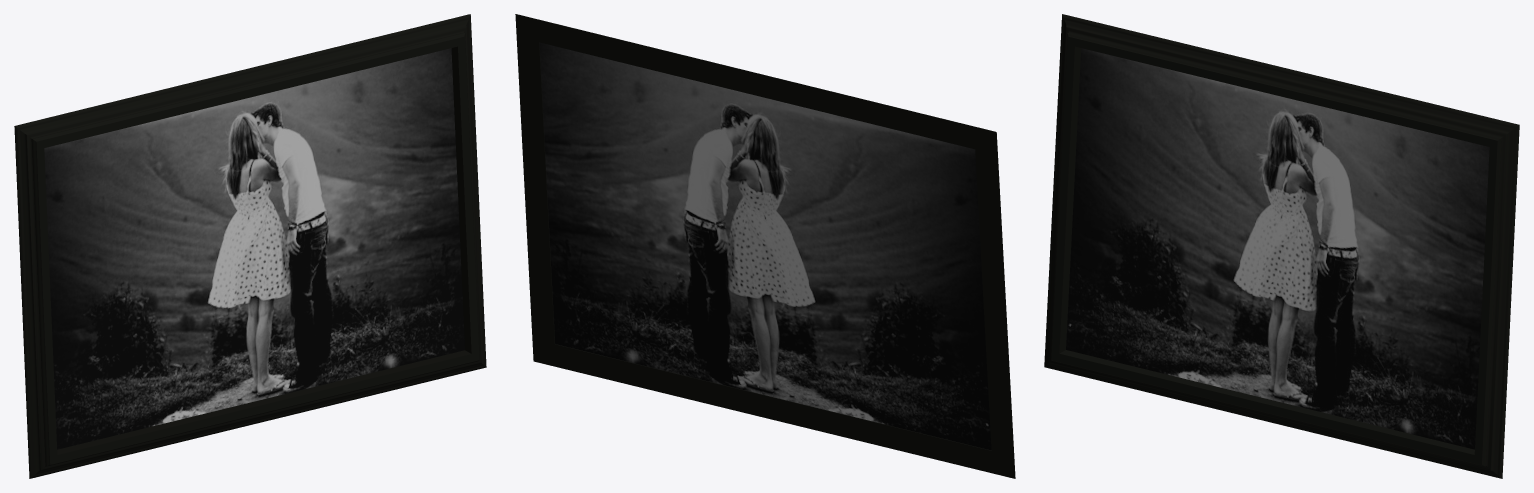
File: photo-frame-1.obj
3 views of the same model, side by side, from view 1: azimuth 30°, elevation 25°; view 2: azimuth 150°, elevation 25°; view 3: azimuth 330°, elevation 25° (orthographic). The views are drawn at different scales.
Visible parts, largest first — view 1: Lifestyle_098; view 2: Lifestyle_098; view 3: Lifestyle_098.
Boxes of the visible parts, x1,y1,x2,y2 form: Lifestyle_098: (14, 14, 486, 478); Lifestyle_098: (515, 14, 1015, 478); Lifestyle_098: (1044, 14, 1519, 478).
Bounding box in the file's own units: 18.92 × 13.49 × 1.68.
Materials: 2 (1 with a texture image).
